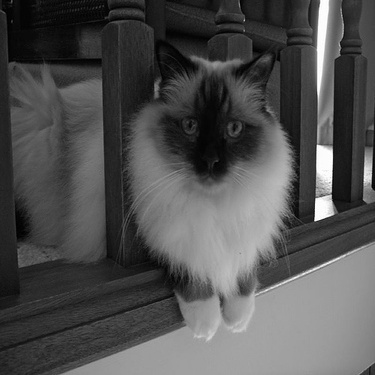cat: (127, 39, 293, 344)
